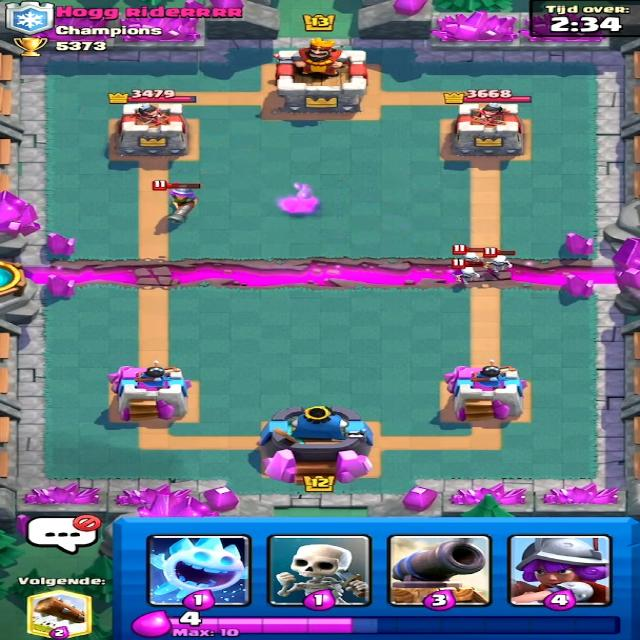Cannon_Card: (390, 532, 489, 606)
Enemy_Musketeer_Troop: (154, 182, 212, 226)
Enemy_Skeleton_Troop: (489, 250, 521, 279), (453, 264, 482, 290), (453, 246, 488, 264)
Ice_Spirit_Card: (143, 533, 256, 609)
Musketeer_Card: (508, 534, 610, 609)
Skeleton_Card: (270, 537, 364, 608)
